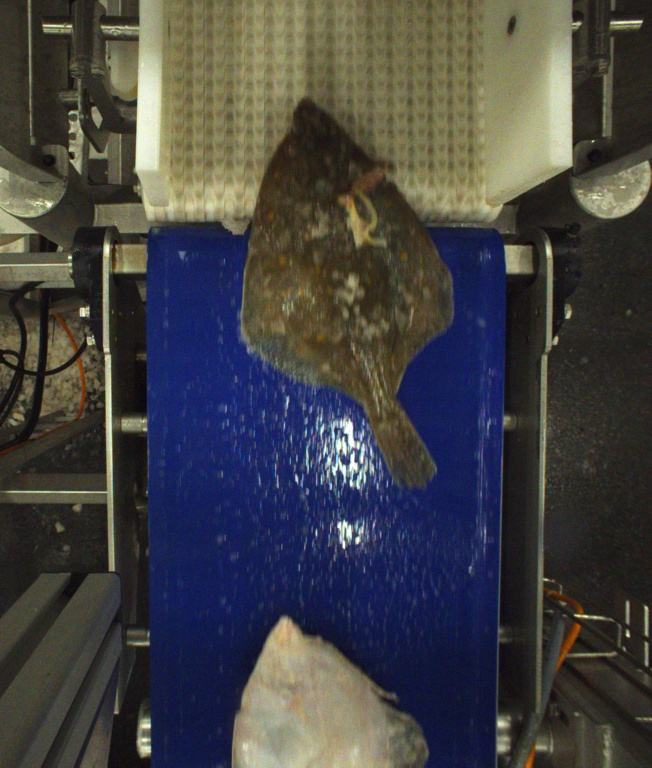PLE: (241, 97, 454, 487)
